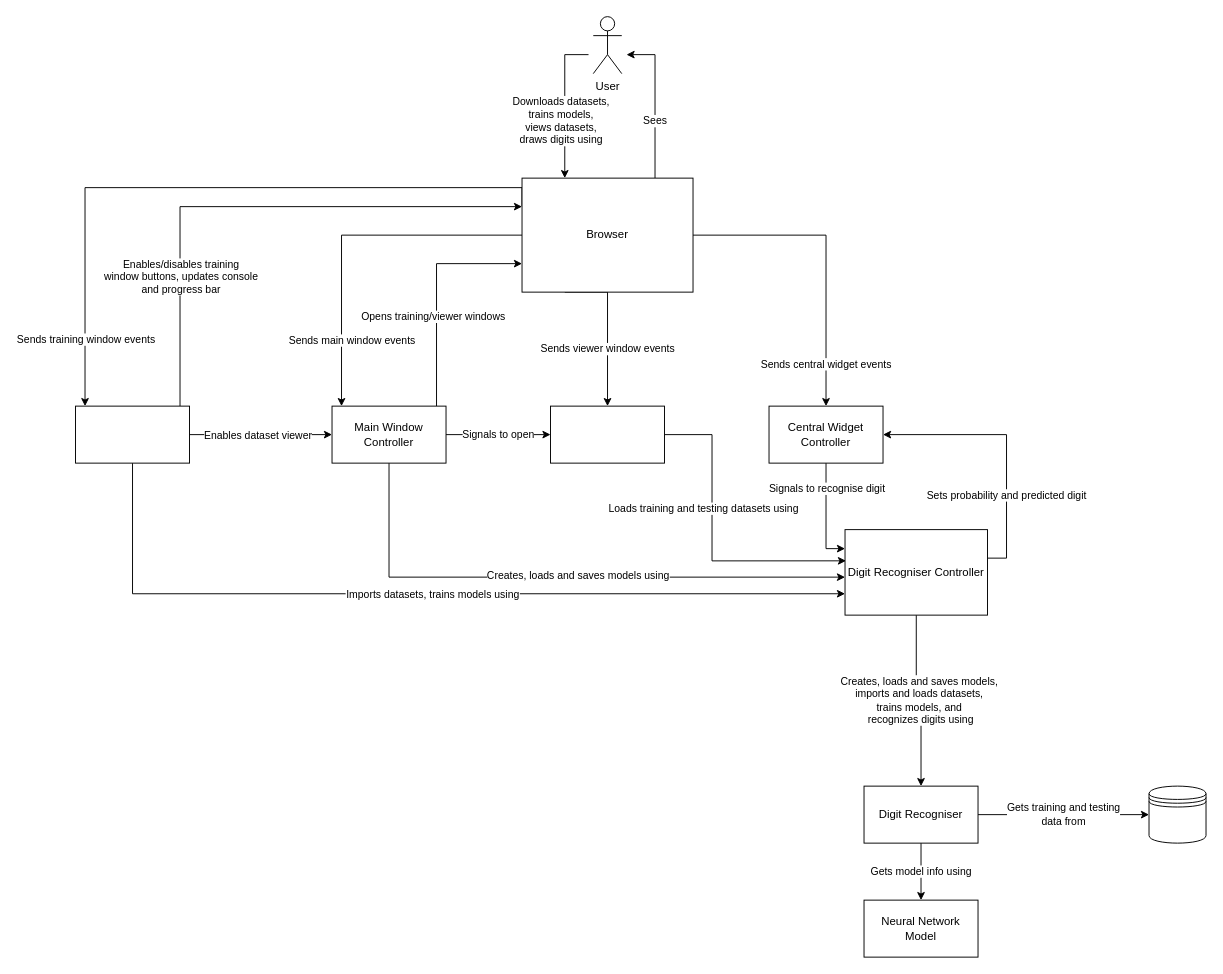
This 1223x974 diagram has some shape labels left out. Here are the shapes that lost their labels. From the top down, the centre of each, then its label:
the point at 132,434: Training Window Controller
the point at 607,434: Viewer Window Controller
the point at 1177,814: MNIST Database
